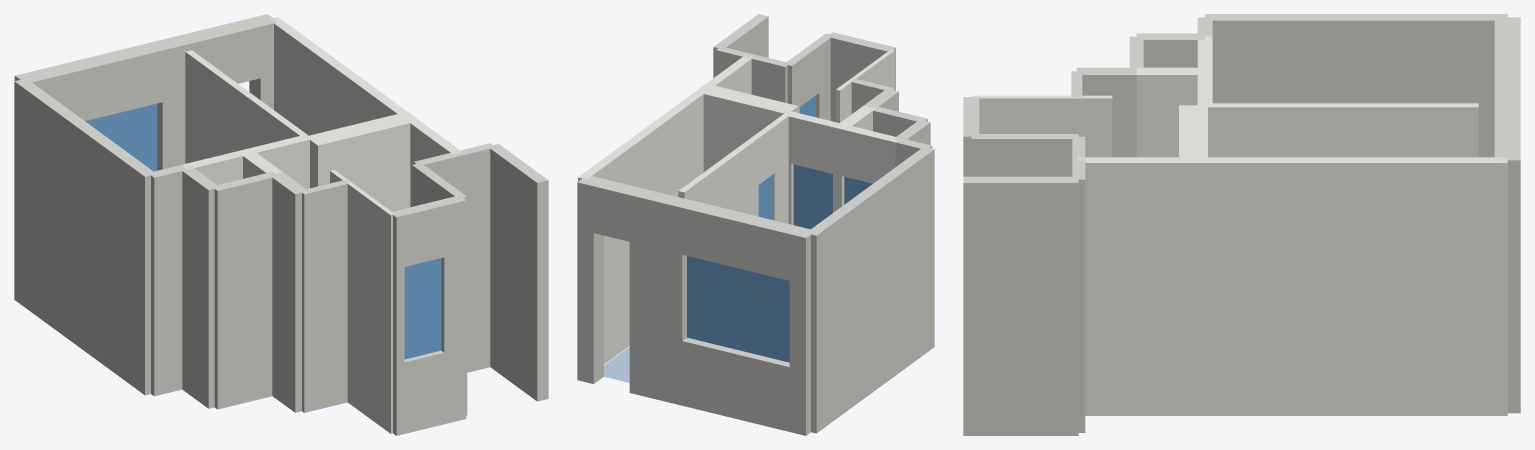
Rendered from Screenshot 2026-10-06 152627_3d.obj.
The picture shows the model from 3 angles, left to right: view 1: azimuth 30°, elevation 25°; view 2: azimuth 150°, elevation 25°; view 3: azimuth 270°, elevation 25°; orthographic projection. The views are drawn at different scales.
Visible parts, largest first — view 1: wall_W11_29, wall_W21_45, wall_W6_21, wall_W9_24, wall_W16_34, wall_W19_43, wall_W12_30, wall_W2_8, wall_W14_32, wall_W17_35, wall_W1_2, wall_W8_23 (+22 smaller); view 2: wall_W11_29, wall_W1_5, wall_W19_43, window_N1_46, wall_W1_1, wall_W1_2, wall_W1_7, wall_W1_0, wall_W17_35, wall_W5_20, wall_W3_11, wall_W4_15 (+28 smaller); view 3: wall_W19_43, wall_W21_45, wall_W20_44, wall_W11_29, wall_W17_35, wall_W13_31, wall_W16_34, wall_W1_7, wall_W14_32, wall_W8_23, wall_W17_37, wall_W17_38 (+12 smaller).
Part boxes in pixels (x1,y1,x2,y2): wall_W11_29: (14,80,156,395); wall_W21_45: (488,144,548,401); wall_W6_21: (212,171,278,409); wall_W9_24: (302,180,349,412); wall_W16_34: (347,181,393,433); wall_W19_43: (269,17,413,135); wall_W12_30: (182,165,219,408); wall_W2_8: (148,165,187,396); wall_W14_32: (271,172,307,412); wall_W17_35: (185,50,273,163); wall_W1_2: (33,42,162,120); wall_W8_23: (458,143,495,372); wall_W11_29: (811,147,934,433); wall_W1_5: (629,188,691,405); wall_W19_43: (578,87,704,364); window_N1_46: (687,256,789,362); wall_W1_1: (682,337,789,431); wall_W1_2: (682,200,799,280); wall_W1_7: (577,175,603,383); wall_W1_0: (789,227,815,435); wall_W17_35: (678,136,758,216); wall_W5_20: (699,84,761,171); wall_W3_11: (842,126,896,183); wall_W4_15: (791,113,838,173); wall_W19_43: (1193,157,1507,415); wall_W21_45: (963,176,1078,435); wall_W20_44: (1078,157,1193,415); wall_W11_29: (1205,14,1507,157); wall_W17_35: (1289,103,1478,157); wall_W13_31: (1136,67,1204,157); wall_W16_34: (971,95,1076,133); wall_W1_7: (1494,150,1520,413); wall_W14_32: (1076,67,1136,157); wall_W8_23: (1072,160,1085,432); wall_W17_37: (1248,103,1288,157); wall_W17_38: (1205,103,1247,157).
Bounding box in the file's own units: 3.94 × 2.75 × 5.49.
